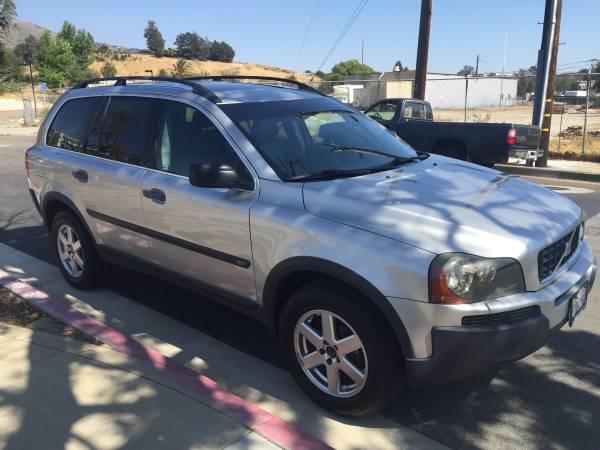volvo: (12, 69, 600, 430)
